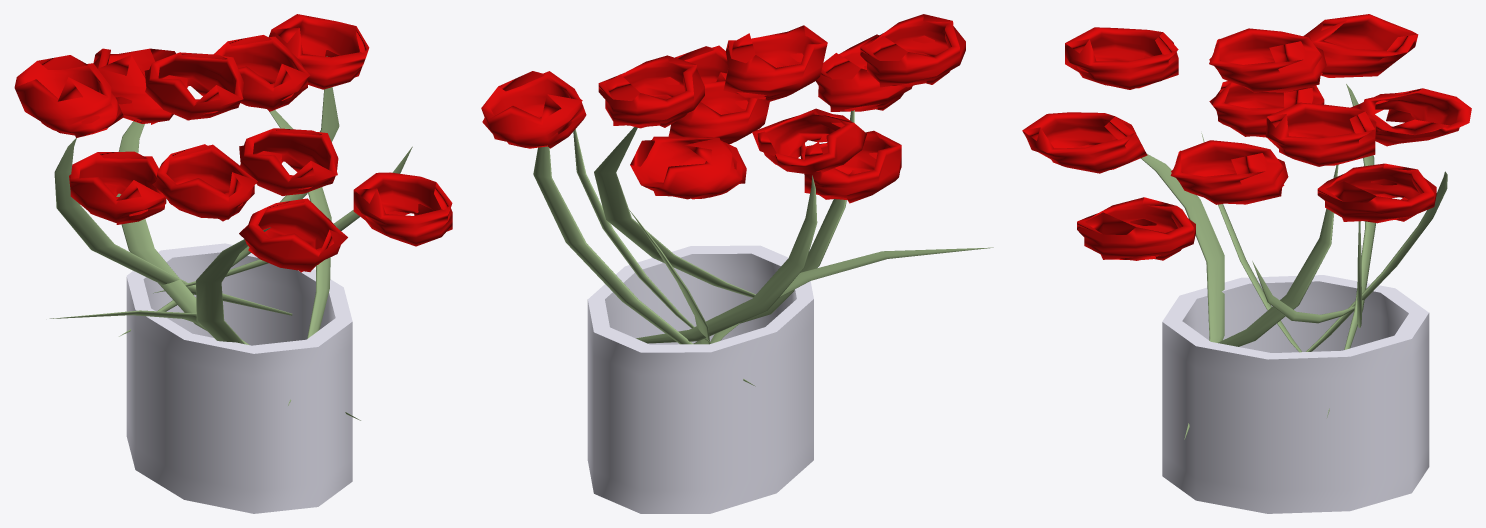
File: sh-contrib-flowers.glb
3 renders of one model, left to right at view 1: azimuth 30°, elevation 25°; view 2: azimuth 150°, elevation 25°; view 3: azimuth 270°, elevation 25°, orthographic. The views are drawn at different scales.
Parts seen in each view (by area): view 1: Flowers_3, Flowers_1, Flowers_2; view 2: Flowers_1, Flowers_3, Flowers_2; view 3: Flowers_1, Flowers_3, Flowers_2.
Boxes of the visible parts, left/top/right/bottom form: Flowers_3: left=14, top=14, right=452, bottom=272; Flowers_1: left=126, top=243, right=352, bottom=513; Flowers_2: left=49, top=56, right=412, bottom=420; Flowers_1: left=587, top=245, right=813, bottom=513; Flowers_3: left=481, top=14, right=965, bottom=203; Flowers_2: left=533, top=110, right=993, bottom=386; Flowers_1: left=1162, top=275, right=1429, bottom=513; Flowers_3: left=1022, top=14, right=1471, bottom=260; Flowers_2: left=1141, top=84, right=1447, bottom=439.
Bounding box in the file's own units: 1 × 1 × 1.
